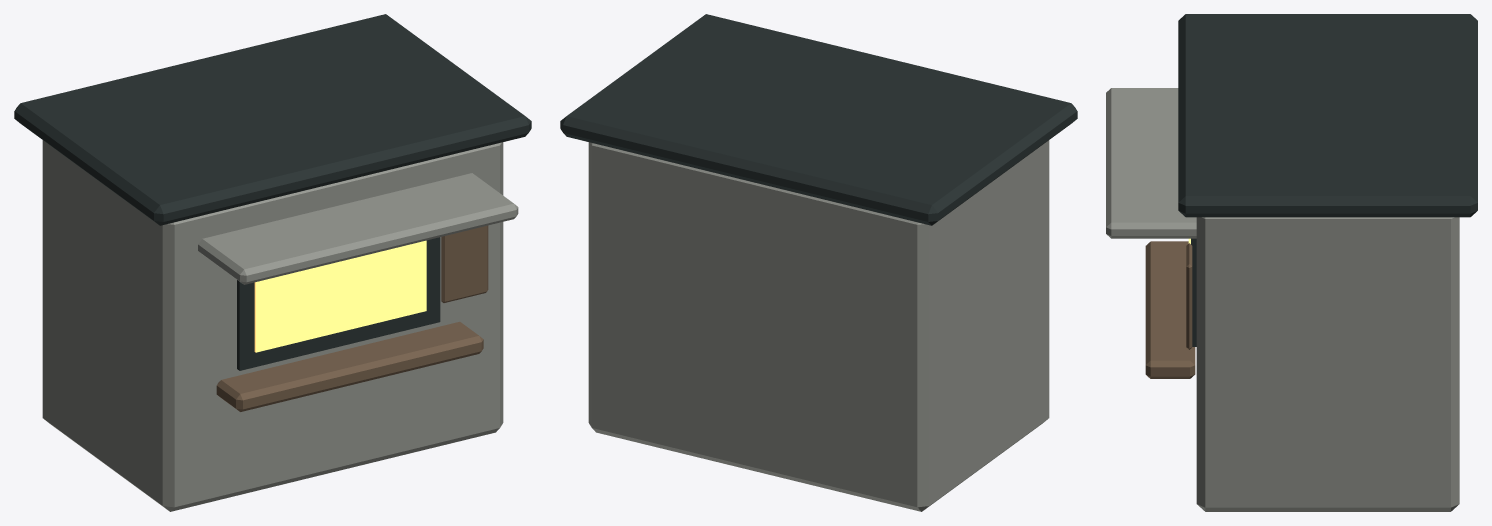
Rendered from coffee-kiosk.glb.
The picture shows the model from 3 angles, left to right: view 1: azimuth 30°, elevation 25°; view 2: azimuth 150°, elevation 25°; view 3: azimuth 270°, elevation 25°; orthographic projection. The views are drawn at different scales.
Visible parts, largest first — view 1: Kiosk_Shell, Kiosk_Roof, Slim_Canopy, Warm_Window_Glow, Service_Counter, Service_Window, Blank_Menu_Board; view 2: Kiosk_Shell, Kiosk_Roof; view 3: Kiosk_Shell, Kiosk_Roof, Slim_Canopy, Service_Counter, Blank_Menu_Board, Service_Window.
Boxes of the visible parts, x1,y1,x2,y2 form: Kiosk_Shell: [42, 140, 503, 511]; Kiosk_Roof: [14, 14, 531, 225]; Slim_Canopy: [198, 173, 518, 284]; Warm_Window_Glow: [254, 240, 426, 352]; Service_Counter: [216, 321, 483, 411]; Service_Window: [237, 237, 440, 370]; Blank_Menu_Board: [441, 225, 488, 302]; Kiosk_Shell: [588, 140, 1049, 511]; Kiosk_Roof: [560, 14, 1077, 225]; Kiosk_Shell: [1196, 217, 1459, 511]; Kiosk_Roof: [1178, 14, 1477, 217]; Slim_Canopy: [1106, 88, 1196, 238]; Service_Counter: [1145, 241, 1195, 378]; Blank_Menu_Board: [1186, 243, 1192, 349]; Service_Window: [1191, 238, 1196, 346].
Size of the model in its own units: 3.05 by 2.46 by 2.54.
